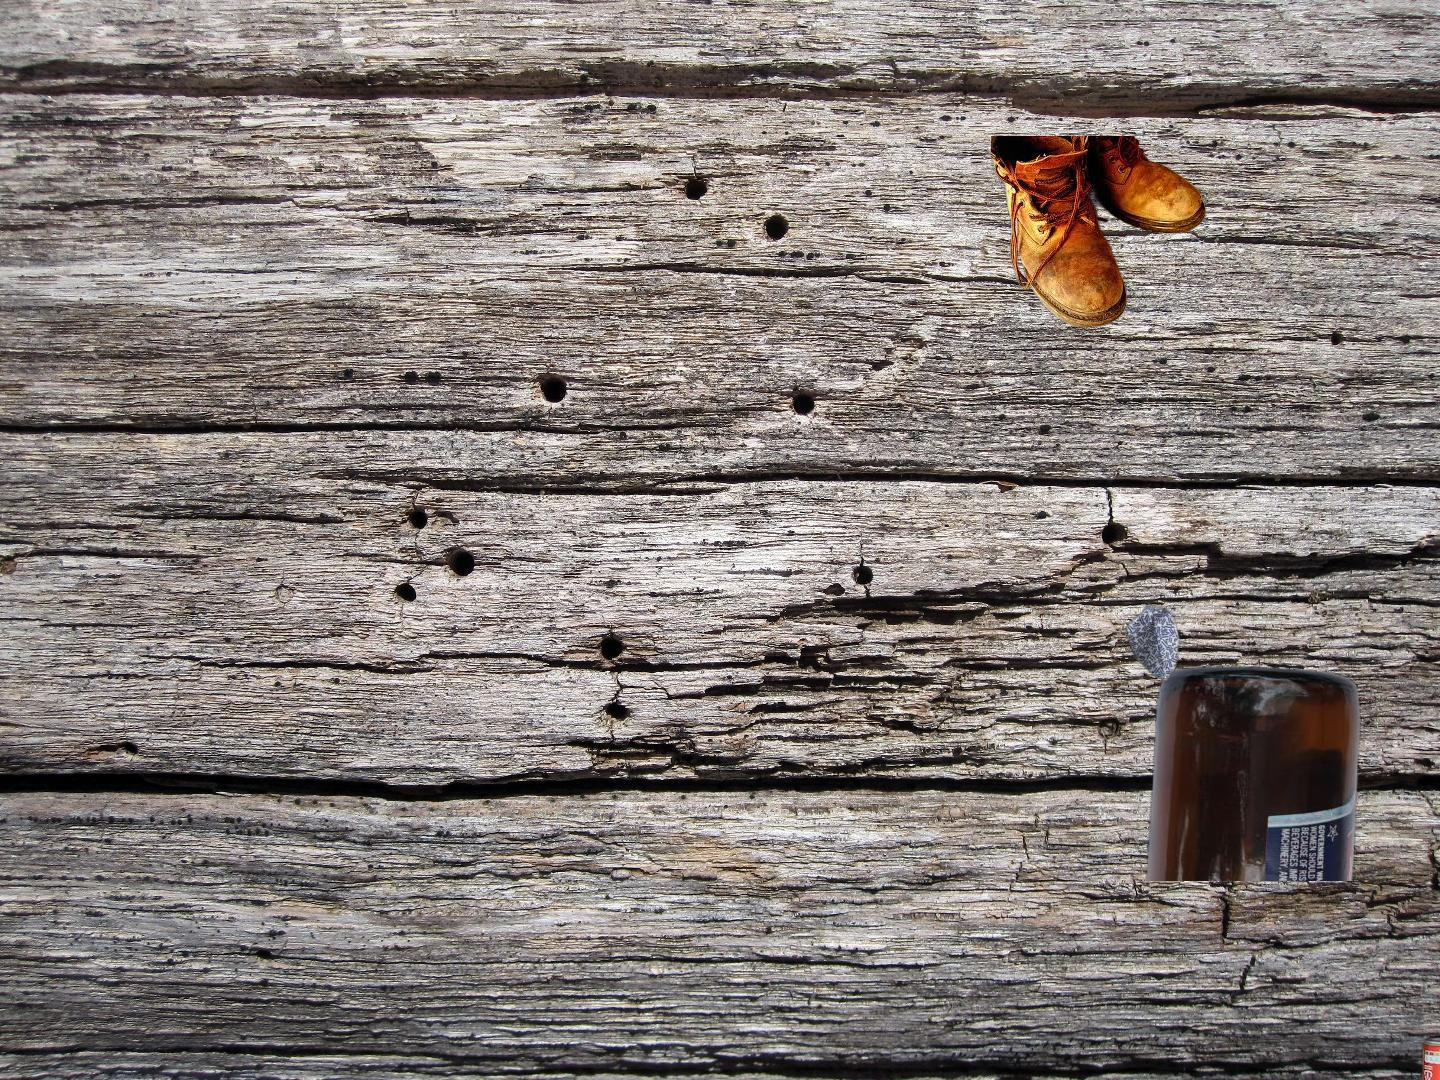glass: (1141, 663, 1364, 881)
metal-cans: (1415, 1030, 1440, 1080)
paper: (1120, 588, 1184, 694)
shoes: (991, 136, 1208, 331)
